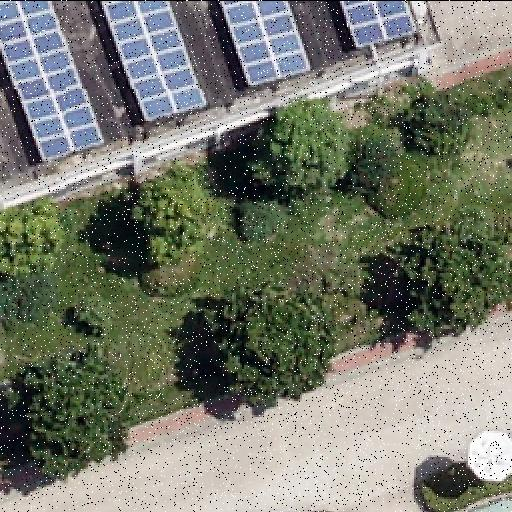solar-panel: (1, 0, 103, 160), (103, 0, 209, 122), (220, 1, 308, 87), (338, 0, 414, 48)
